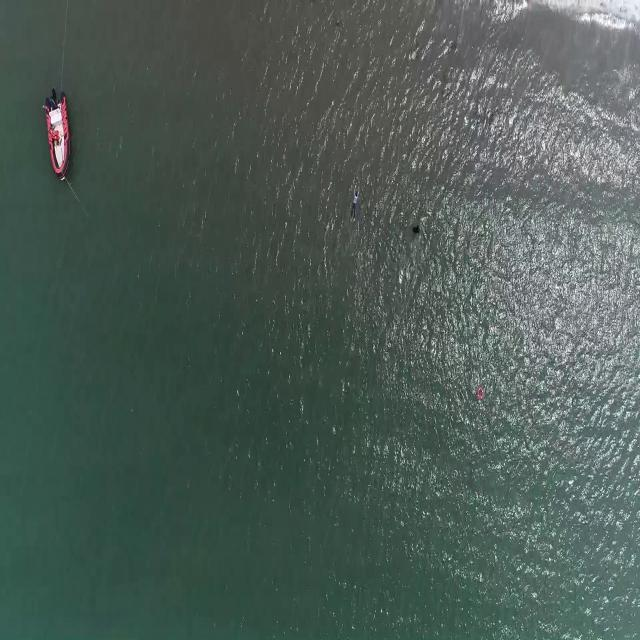boat: (42, 89, 72, 178)
life_buoy: (476, 386, 484, 402)
person: (350, 183, 361, 220), (412, 220, 421, 239)
